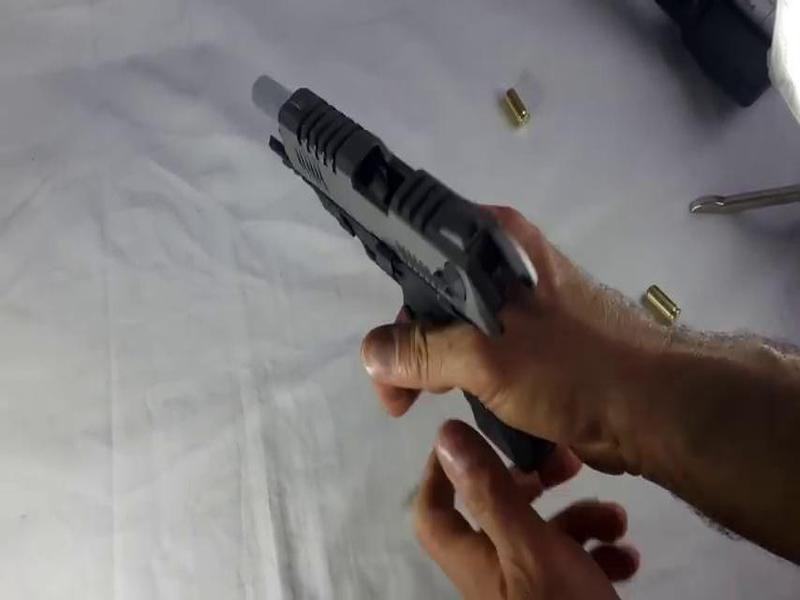Pistola: (227, 55, 581, 504)
